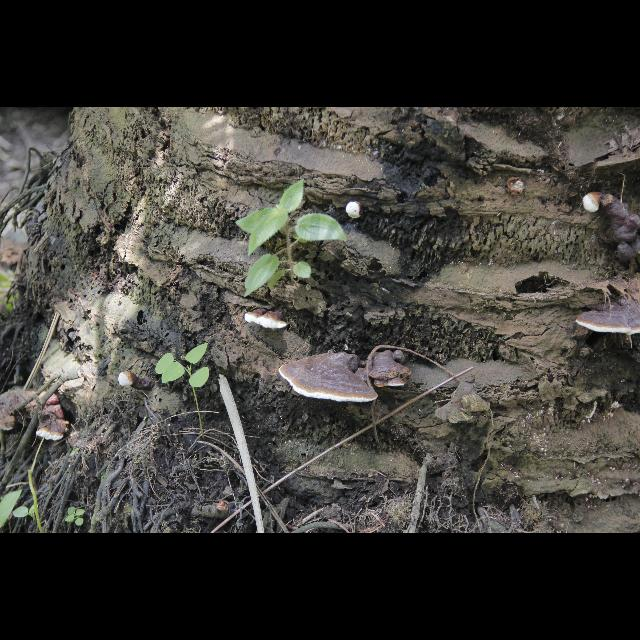ganoderma: (279, 354, 379, 405), (603, 194, 640, 266), (577, 297, 640, 338), (365, 351, 413, 389), (37, 396, 70, 443), (1, 392, 35, 433), (246, 310, 288, 331)
primordium: (584, 193, 602, 214), (347, 202, 365, 220), (119, 372, 137, 389)
